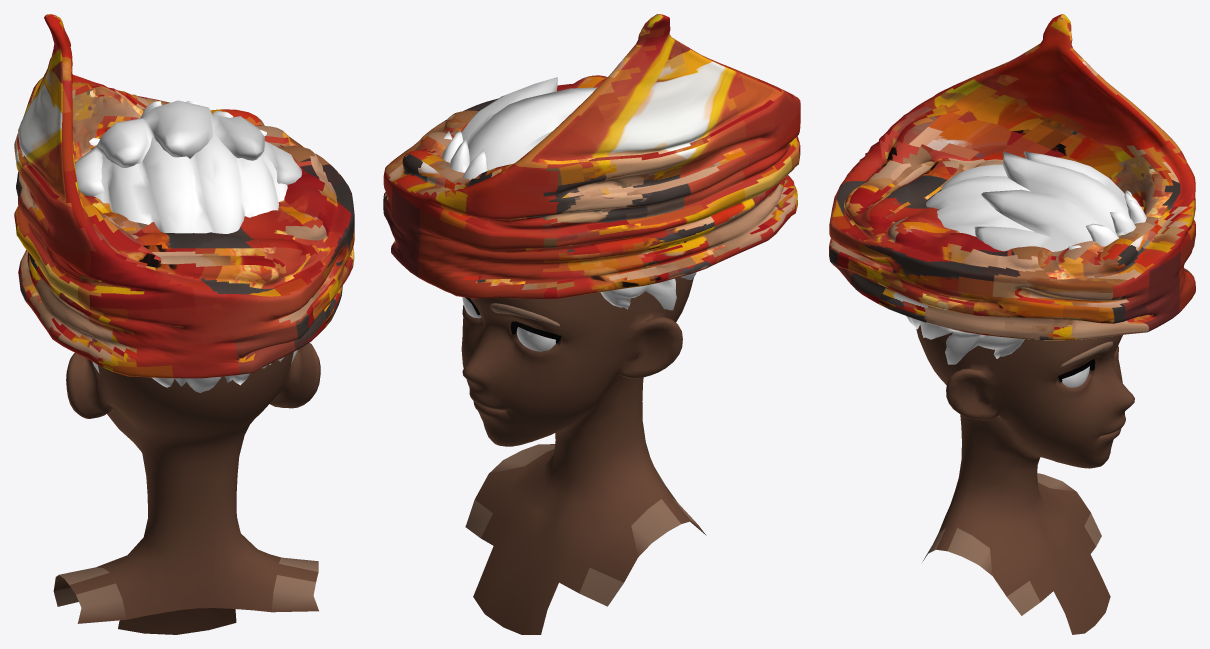
File: Hangjebatfinal.fbx
3 renders of one model, left to right at view 1: azimuth 30°, elevation 25°; view 2: azimuth 150°, elevation 25°; view 3: azimuth 270°, elevation 25°, orthographic. The views are drawn at different scales.
Parts seen in each view (by area): view 1: model.001, M_HeadSlot.001, short_002.001; view 2: model.001, M_HeadSlot.001, short_002.001; view 3: model.001, M_HeadSlot.001, short_002.001.
Part boxes in pixels (x1,y1,x2,y2): model.001: (14,14,354,378); M_HeadSlot.001: (53,342,320,634); short_002.001: (75,100,301,392); model.001: (383,14,800,298); M_HeadSlot.001: (461,277,706,634); short_002.001: (442,77,696,310); model.001: (829,14,1195,340); M_HeadSlot.001: (916,325,1134,634); short_002.001: (906,151,1146,364).
Bounding box in the file's own units: 78.22 × 155 × 93.31.
